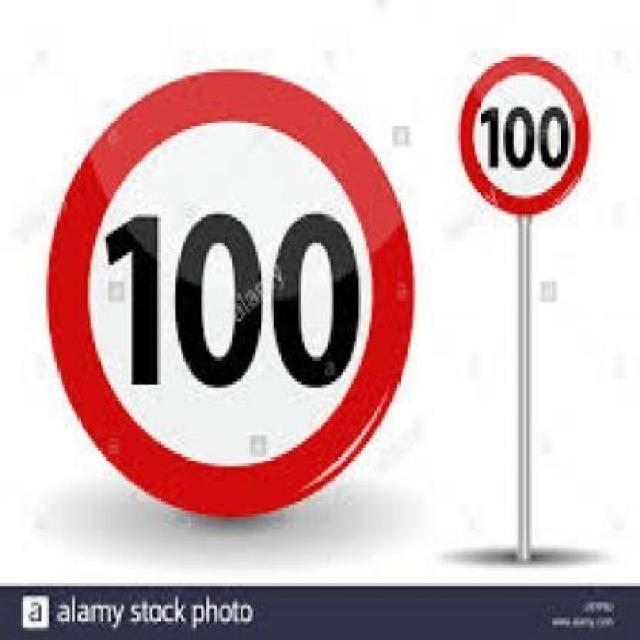forb_speed_over_100: (49, 69, 414, 517), (455, 55, 588, 216)
